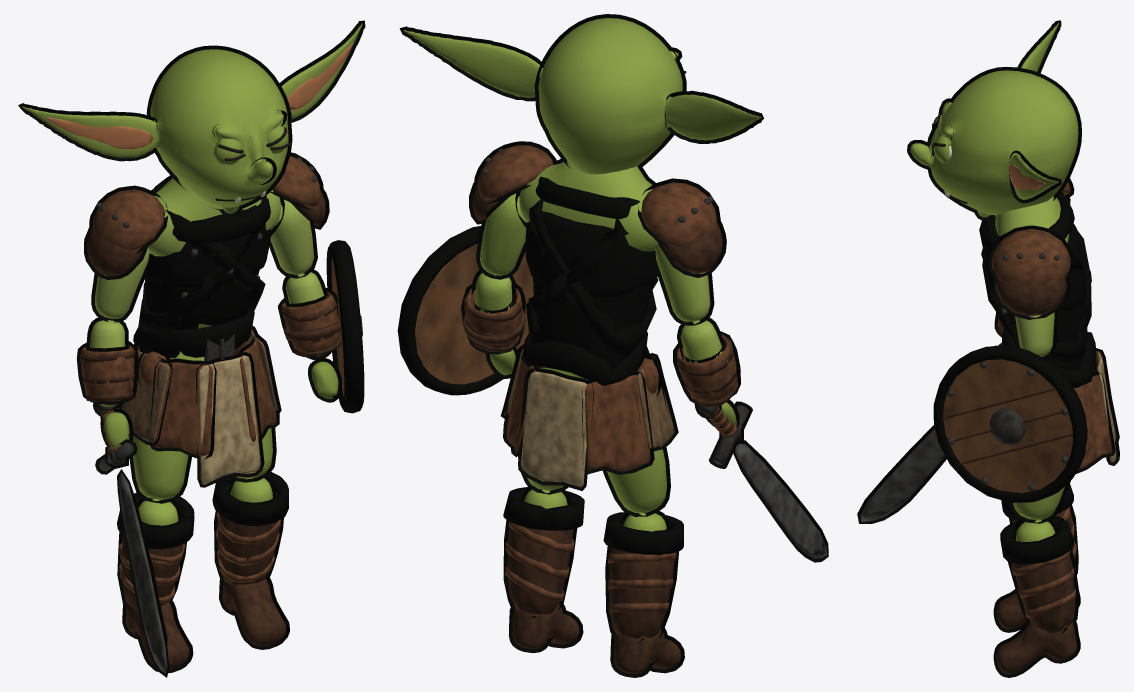
The model's file is GoblinWarrior.fbx.
The picture shows the model from 3 angles, left to right: view 1: azimuth 30°, elevation 25°; view 2: azimuth 150°, elevation 25°; view 3: azimuth 270°, elevation 25°; orthographic projection. The views are drawn at different scales.
Visible parts, largest first — view 1: Head, LowerTorso, UpperTorso, LeftLowerArm, RightUpperArm, LeftLowerLeg, RightHand, LeftUpperArm, RightLowerLeg, RightLowerArm, LeftFoot, RightUpperLeg (+4 smaller); view 2: Head, UpperTorso, LowerTorso, LeftLowerArm, RightUpperArm, RightLowerLeg, LeftLowerLeg, LeftUpperArm, RightHand, RightLowerArm, RightUpperLeg, RightFoot (+1 smaller); view 3: Head, LeftLowerArm, LeftUpperArm, LeftLowerLeg, UpperTorso, LowerTorso, RightHand, LeftFoot, LeftUpperLeg, RightFoot, RightLowerLeg, Eyelids.
Part boxes in pixels (x1,y1,x2,y2): Head: (18,20,365,217); LowerTorso: (119,307,281,487); UpperTorso: (138,175,284,333); LeftLowerArm: (278,240,364,413); RightUpperArm: (84,185,168,322); LeftLowerLeg: (212,472,288,585); RightHand: (93,402,169,677); LeftUpperArm: (269,152,329,278); RightLowerLeg: (117,493,194,612); RightLowerArm: (76,317,138,410); LeftFoot: (219,575,289,649); RightUpperLeg: (129,436,191,503); Head: (399,14,763,174); UpperTorso: (515,159,658,369); LowerTorso: (500,331,678,490); LeftLowerArm: (397,226,533,395); RightUpperArm: (637,178,726,325); RightLowerLeg: (603,511,683,643); LeftLowerLeg: (503,487,584,617); LeftUpperArm: (469,141,556,279); RightHand: (694,400,828,562); RightLowerArm: (673,317,740,407); RightUpperLeg: (603,445,670,516); RightFoot: (610,628,684,677); Head: (907,20,1081,220); LeftLowerArm: (933,345,1087,502); LeftUpperArm: (988,225,1074,359); LeftLowerLeg: (1000,516,1078,634); UpperTorso: (979,194,1091,370); LowerTorso: (1000,329,1119,473); RightHand: (857,344,1000,523); LeftFoot: (993,617,1080,677); LeftUpperLeg: (1009,481,1070,523); RightFoot: (993,580,1080,632); RightLowerLeg: (1001,484,1078,574); Eyelids: (932,114,949,162).
Bounding box in the file's own units: 2.19 × 3.6 × 1.48.
1 material, 1 textured.
